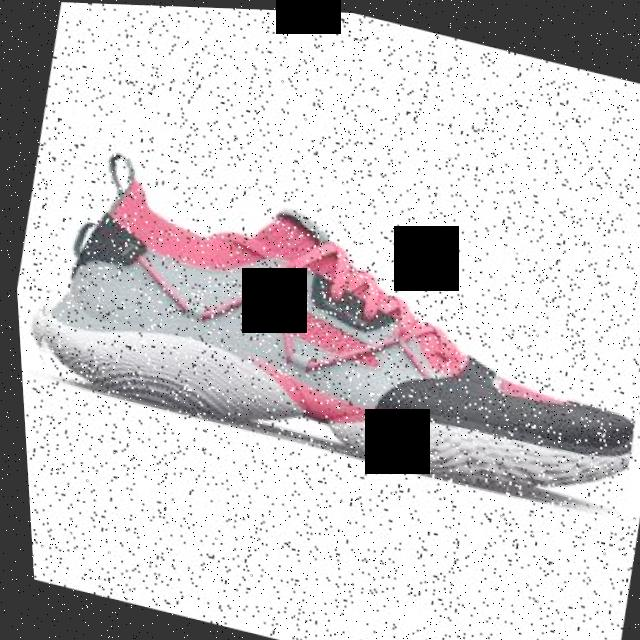shoe: (9, 139, 640, 518)
